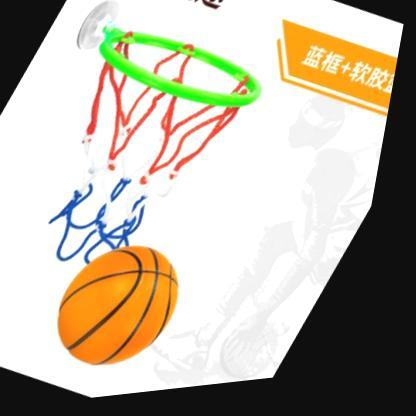basketball: (39, 223, 219, 396)
